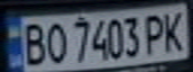0: (106, 15, 127, 61)
3: (124, 14, 145, 58)
4: (90, 16, 109, 61)
7: (69, 16, 90, 64)
B: (18, 19, 48, 66)
K: (157, 7, 190, 53)
O: (42, 19, 69, 65)
P: (139, 10, 169, 56)
